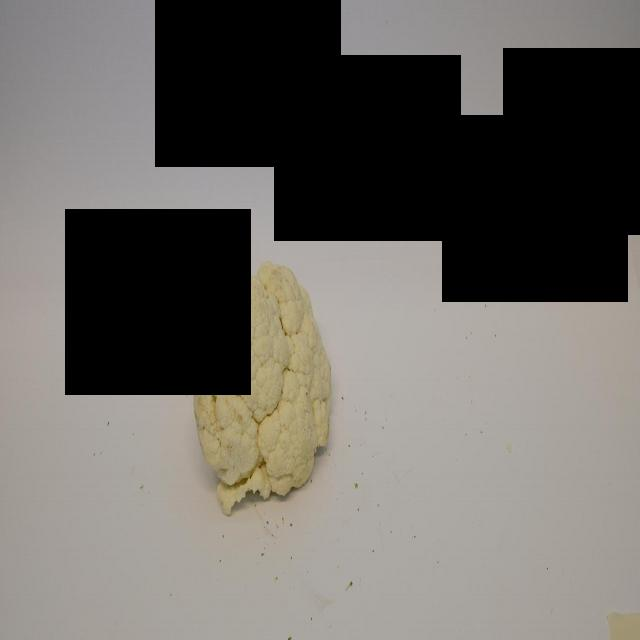cauliflower: (198, 254, 339, 516)
